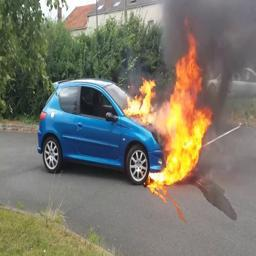fire: (123, 22, 213, 185)
